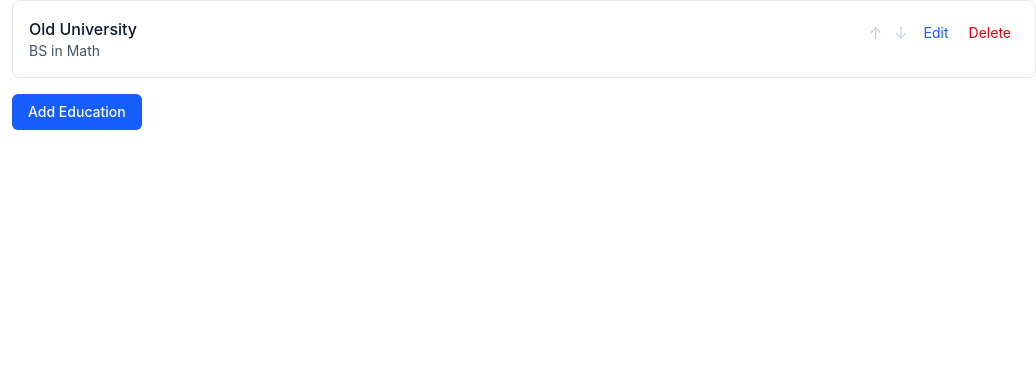
EducationSection › edits an existing education entry
The image size is (1036, 387).
Step 1. Click the button "Edit" → coordinates (936, 33), box [916,19,957,47]
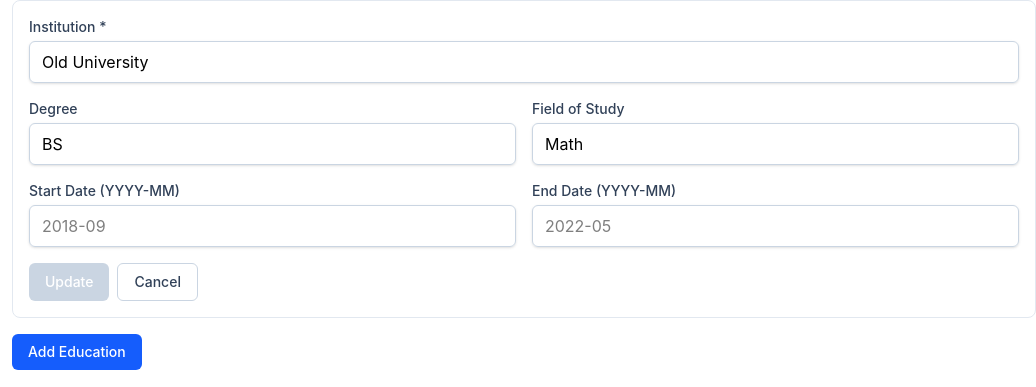
Step 2. Replace the text in the field labelled "Institution *" with "New University" → coordinates (524, 62), box [29,41,1019,83]
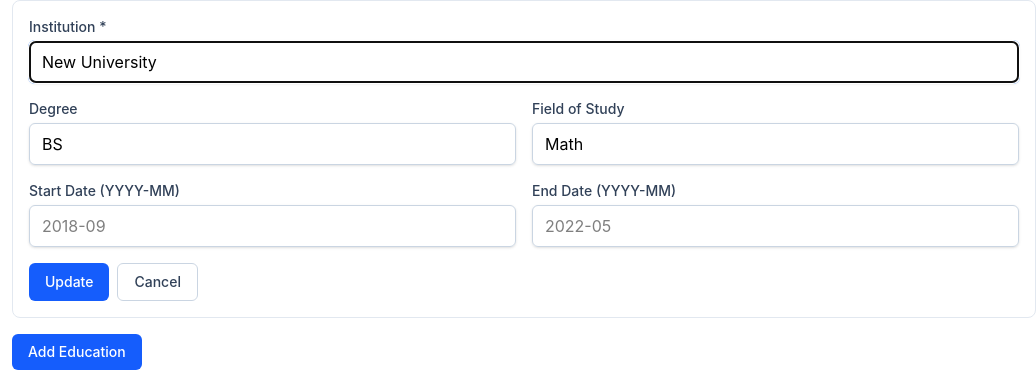
Step 3. Click the button "Update" → coordinates (69, 282), box [29,263,110,301]
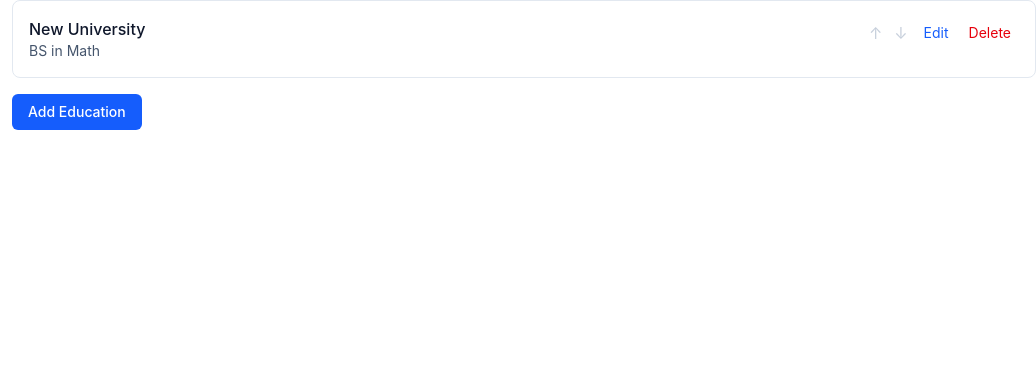
Expected: the heading "Old University" is not shown
Now the heading "New University" is shown, box [29,19,145,39]
